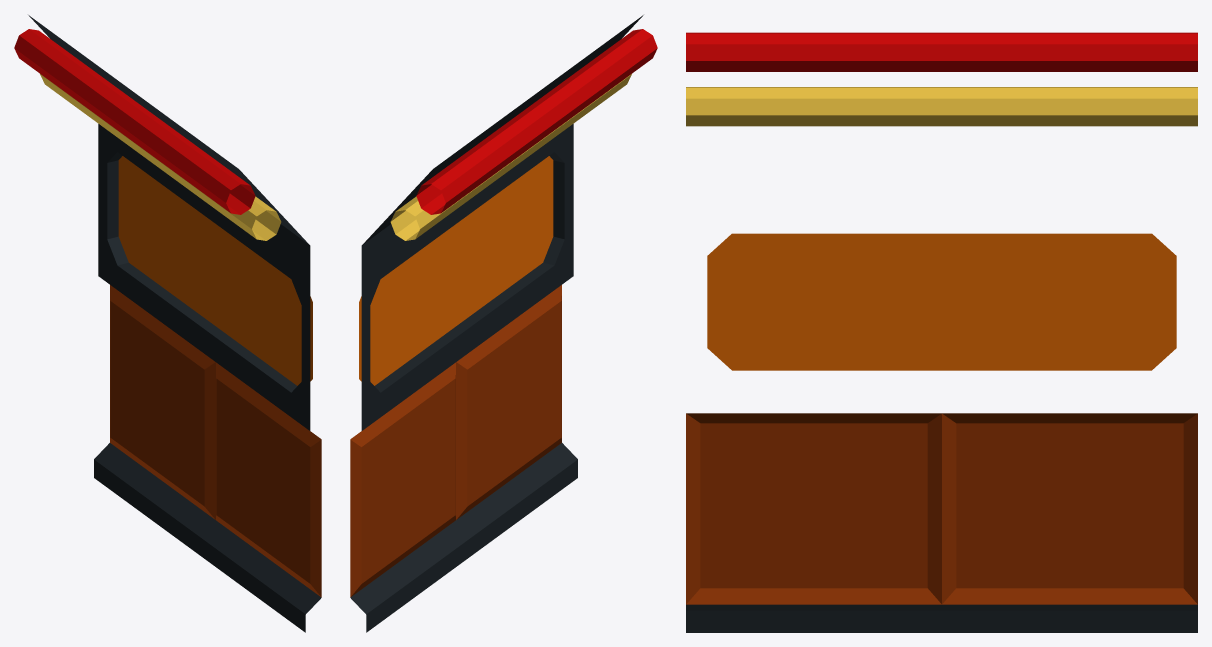
Rendered from SM_Wall.fbx.
3 renders of one model, left to right at view 1: azimuth 30°, elevation 25°; view 2: azimuth 150°, elevation 25°; view 3: azimuth 270°, elevation 25°, orthographic. The views are drawn at different scales.
Visible parts, largest first — view 1: Wall.001; view 2: Wall.001; view 3: Wall.001.
Part boxes in pixels (x1=…): Wall.001: x1=14, y1=15, x2=321, y2=632; Wall.001: x1=350, y1=15, x2=657, y2=632; Wall.001: x1=686, y1=32, x2=1197, y2=632.
Size of the model in its own units: 52.16 by 250 by 200.
